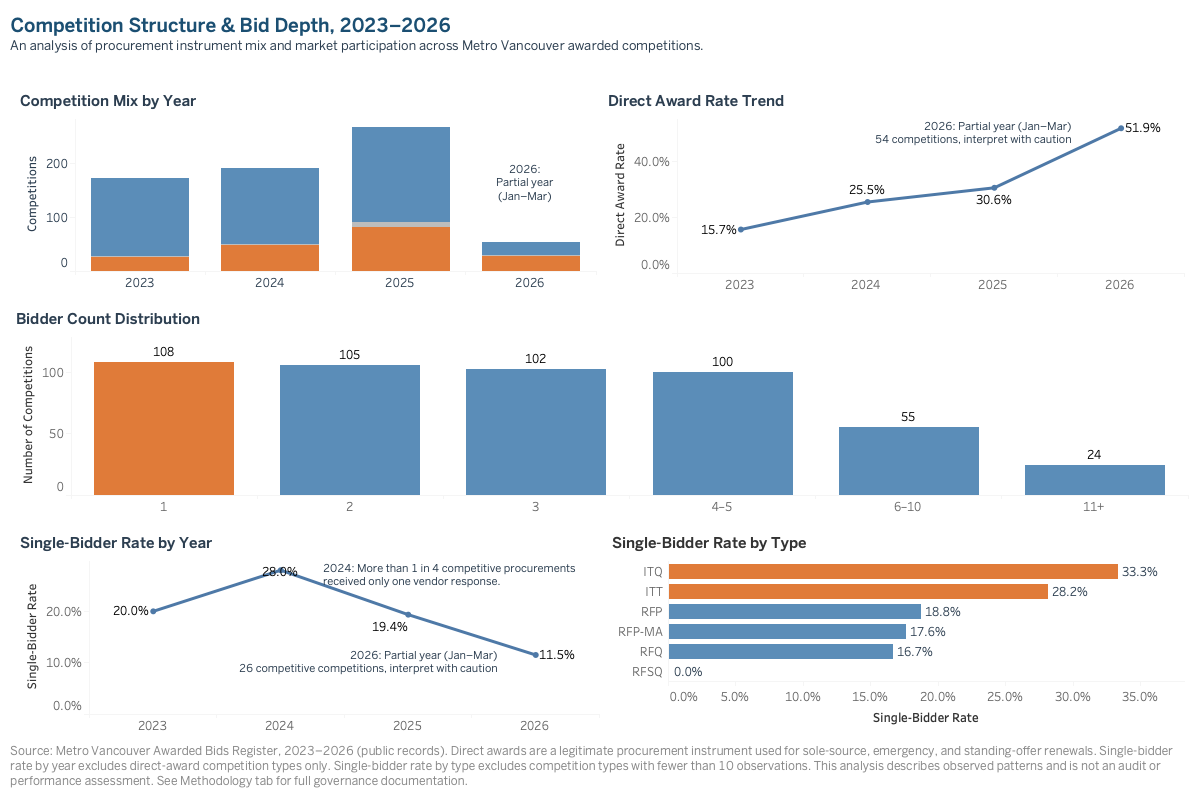

This screenshot's page, from the dashboard's own definition file:
{"tool":"tableau","page":{"name":"Competition Structure & Bid Depth","canvas":[1200,800],"ordinal":0},"visuals":[{"type":"text","box":[8,8,1184,70]},{"type":"worksheet","title":"Competition Mix by Year","mark":"Automatic","rows":["Calculation_0061237101985793"],"cols":["source_year"],"box":[12,82,588,214]},{"type":"worksheet","title":"Direct Award Rate Trend","mark":"Line","rows":["Calculation_0260455680823296"],"cols":["source_year"],"box":[600,82,588,214]},{"type":"worksheet","title":"Bidder Count Distribution","mark":"Automatic","rows":["Calculation_0088799579418632"],"cols":["Calculation_0088799578574855"],"box":[8,300,1184,220]},{"type":"worksheet","title":"Single-Bidder Rate by Year","mark":"Line","rows":["Calculation_0088799546486787"],"cols":["source_year"],"box":[12,524,592,214]},{"type":"worksheet","title":"Single-Bidder Rate by Type","mark":"Automatic","rows":["competition_type_standardized"],"cols":["Calculation_0051204347961346"],"box":[604,524,584,214]},{"type":"text","box":[8,742,1184,49]}]}

Visuals, with their boxes in screenshot pixels (x1, y1, x2, y2), scaled from the page's 1200x800 canvas onto the 1200x800 screenshot:
text: bbox=[8, 8, 1192, 78]
"Competition Mix by Year" worksheet: bbox=[12, 82, 600, 296]
"Direct Award Rate Trend" worksheet (Line marks): bbox=[600, 82, 1188, 296]
"Bidder Count Distribution" worksheet: bbox=[8, 300, 1192, 520]
"Single-Bidder Rate by Year" worksheet (Line marks): bbox=[12, 524, 604, 738]
"Single-Bidder Rate by Type" worksheet: bbox=[604, 524, 1188, 738]
text: bbox=[8, 742, 1192, 791]
